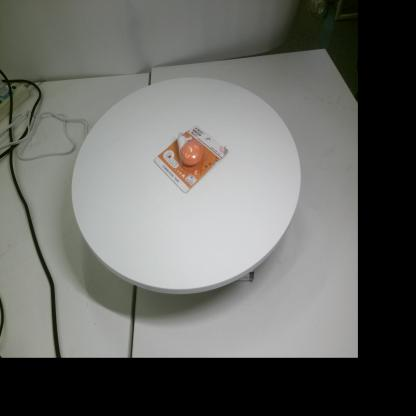Stationery: (154, 126, 228, 194)
